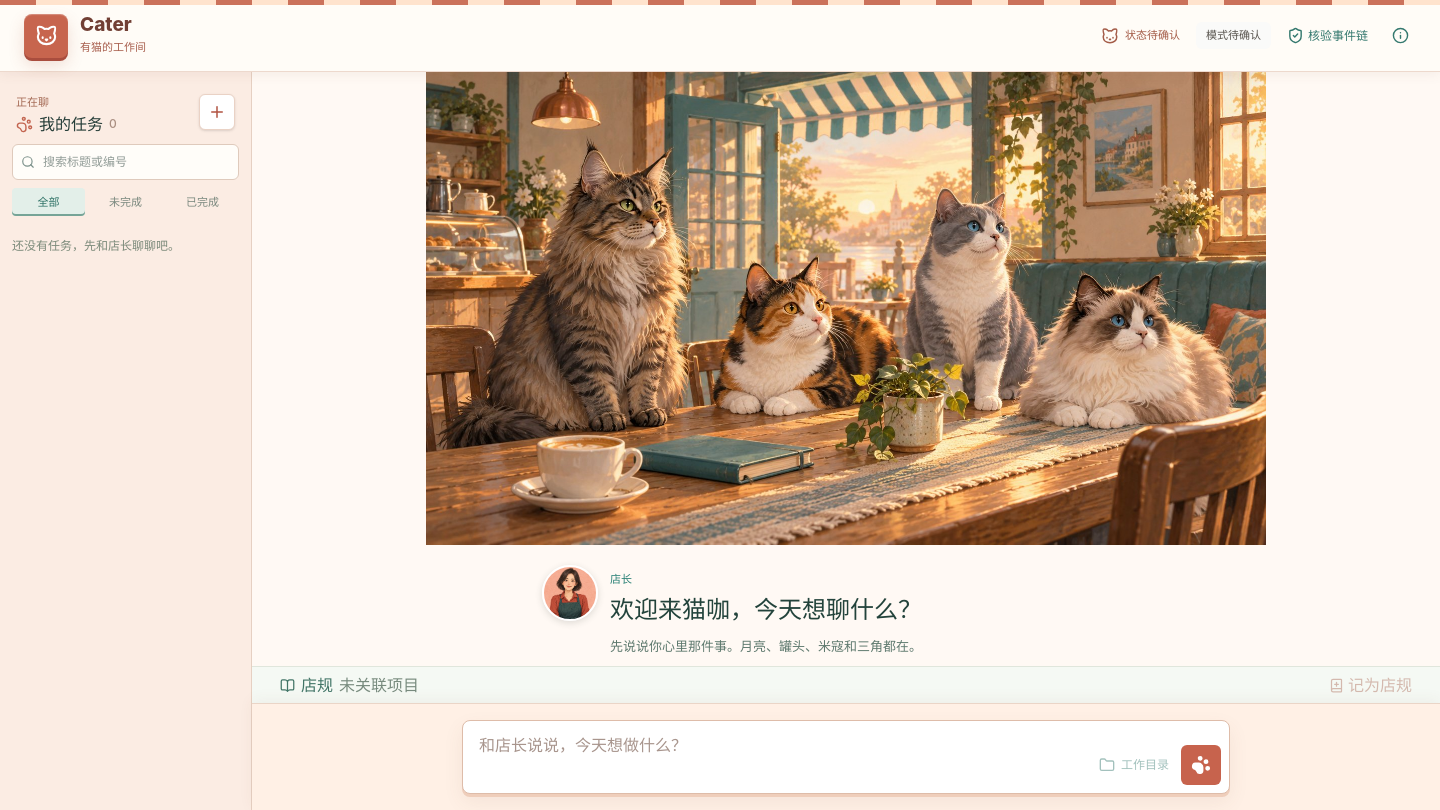
Test: 两个名单均失败只在伙伴页提示，刷新成功后消除旧故障
Click the button with aria-label "今天在店里" at (1140, 36), box [1093, 20, 1188, 50]
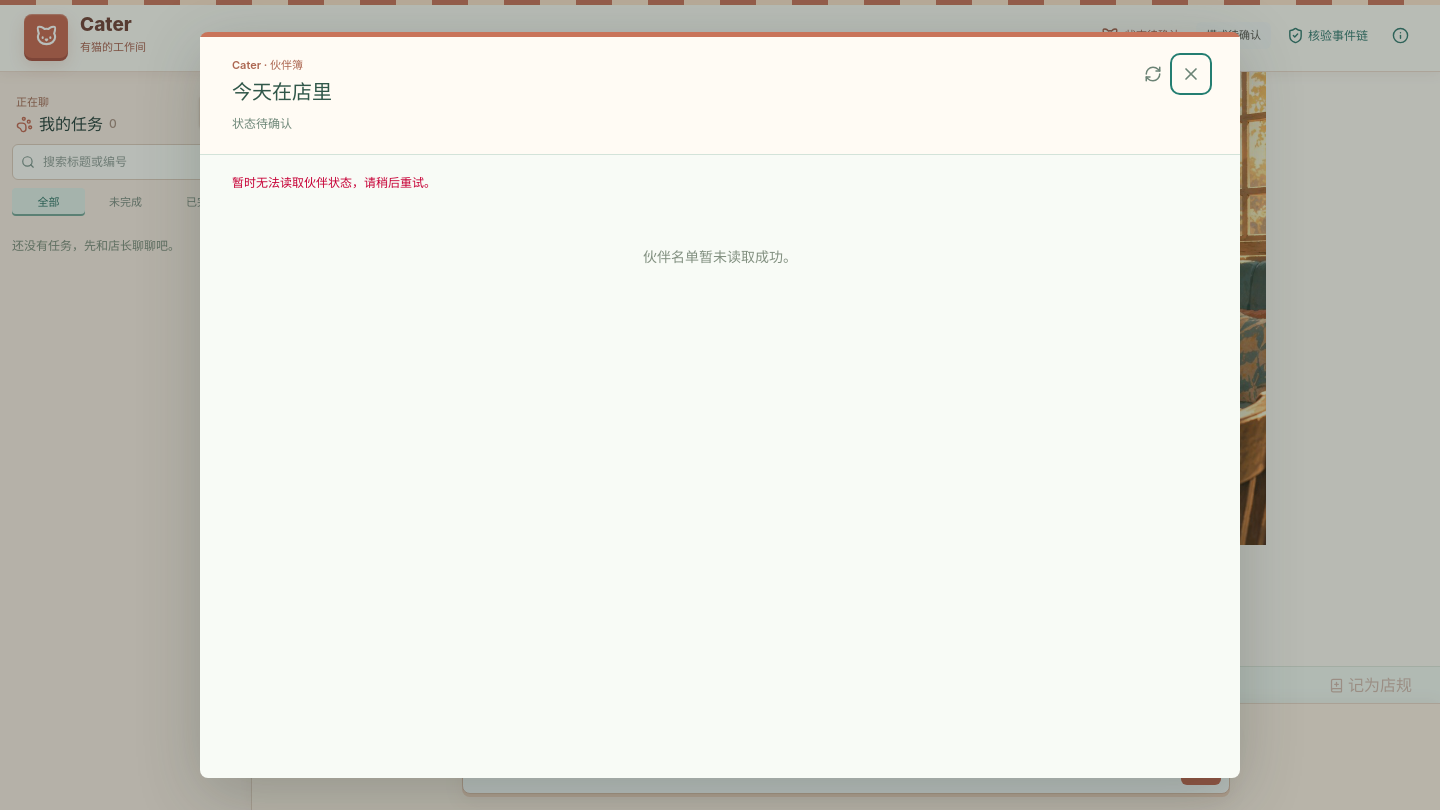
Now the message "暂时无法读取伙伴状态，请稍后重试。" is shown, box [232, 174, 436, 190]
Now the button named "刷新伙伴状态" is enabled
Click the button named "刷新伙伴状态" at (1153, 74), box [1136, 57, 1170, 91]
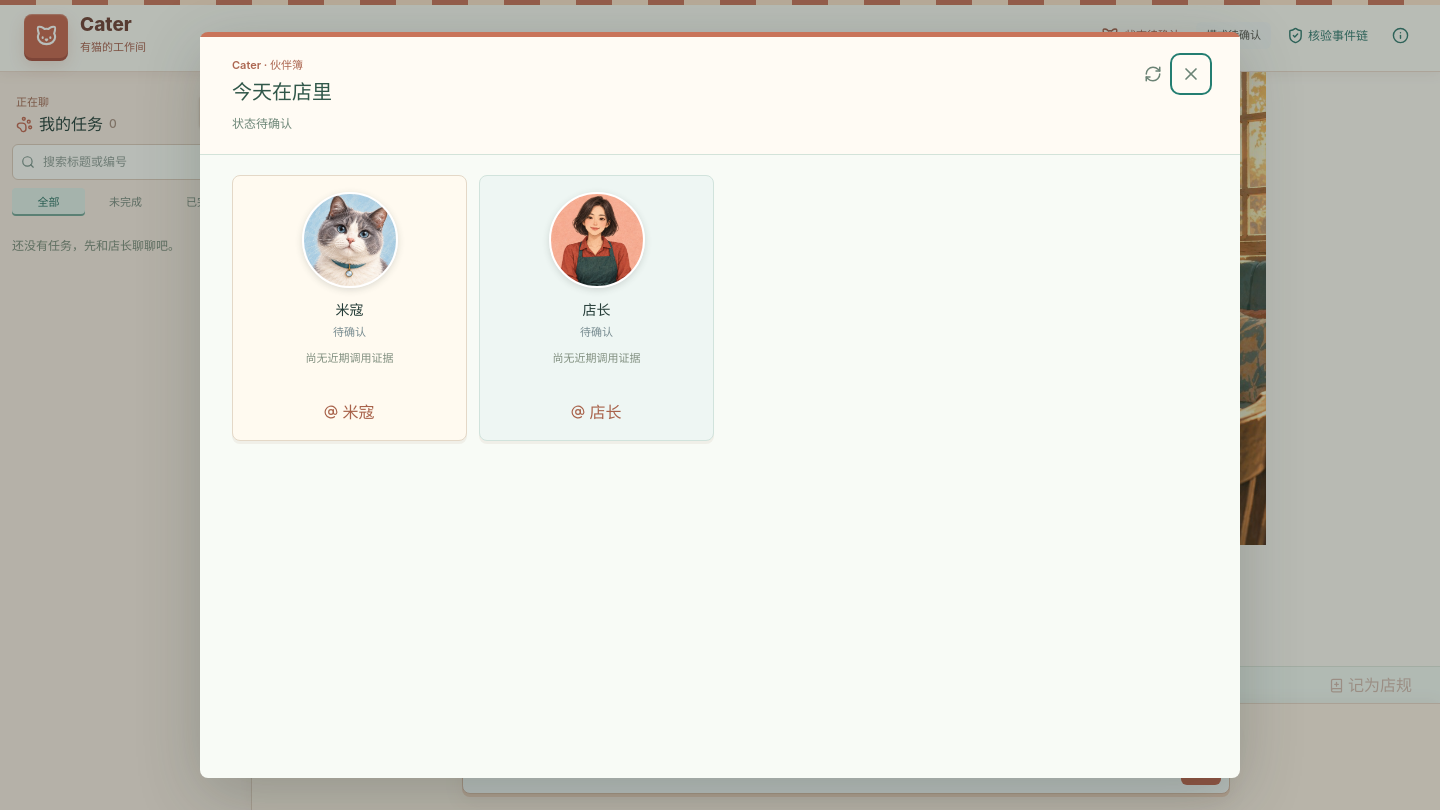
Now the button with aria-label "点名 米寇" is shown, box [324, 400, 374, 424]
Now the message "暂时无法读取伙伴状态，请稍后重试。" is gone
Click the button named "关闭伙伴页" at (1191, 74), box [1174, 57, 1208, 91]
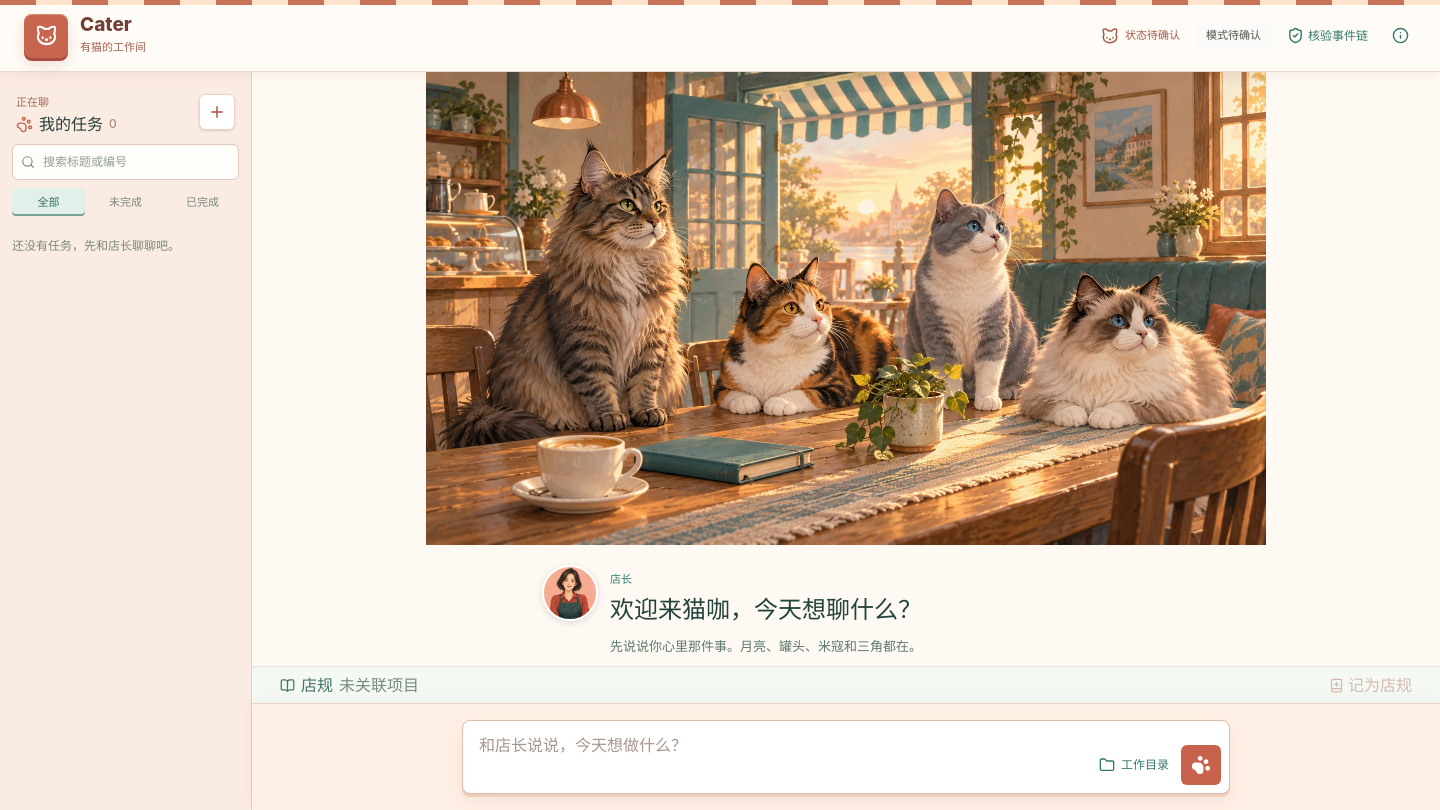
Expected: the message "暂时无法读取伙伴状态，请稍后重试。" is not shown
Now the dialog is gone
